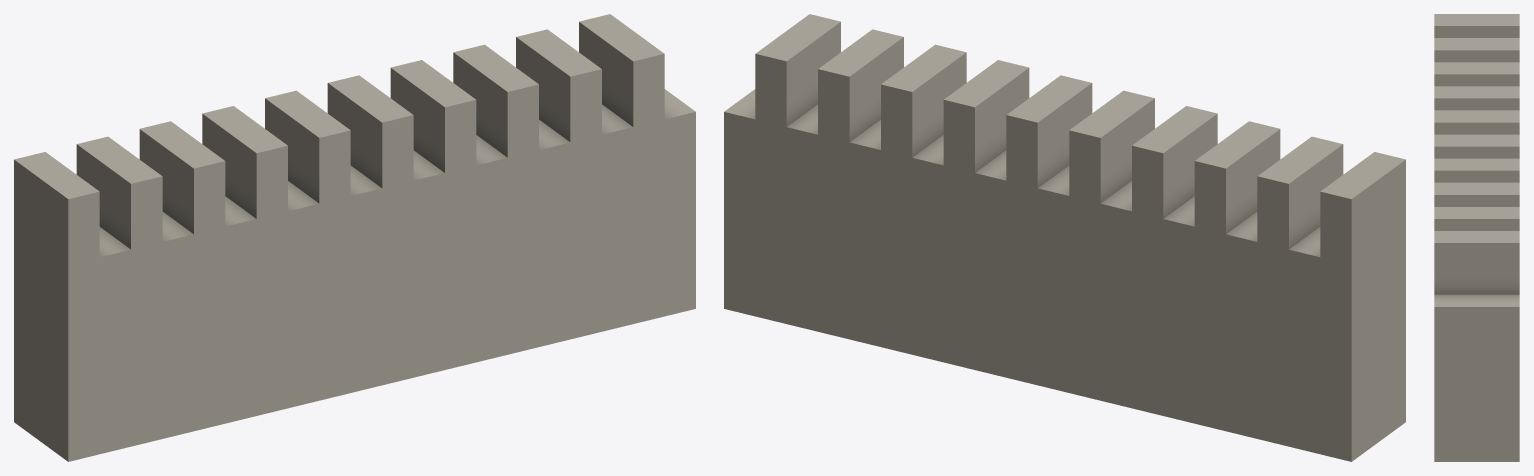
File: c_wall1.glb
3 views of the same model, side by side, from view 1: azimuth 30°, elevation 25°; view 2: azimuth 150°, elevation 25°; view 3: azimuth 270°, elevation 25° (orthographic). The views are drawn at different scales.
Parts seen in each view (by area): view 1: c_wall1_body; view 2: c_wall1_body; view 3: c_wall1_body.
Part boxes in pixels (bbox=[...]): c_wall1_body: bbox=[14, 14, 695, 461]; c_wall1_body: bbox=[724, 14, 1405, 461]; c_wall1_body: bbox=[1434, 14, 1519, 461].
Size of the model in its own units: 1.25 by 0.5 by 0.1875.
Materials: 1 (1 with a texture image).
